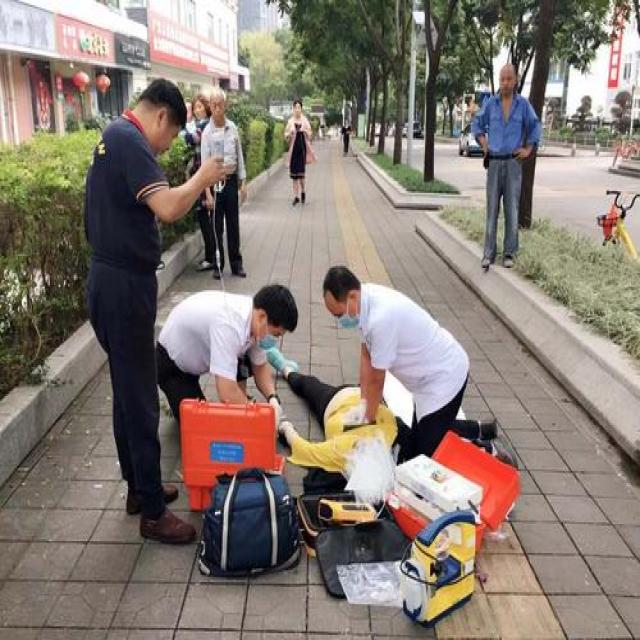fall: (274, 343, 399, 473)
